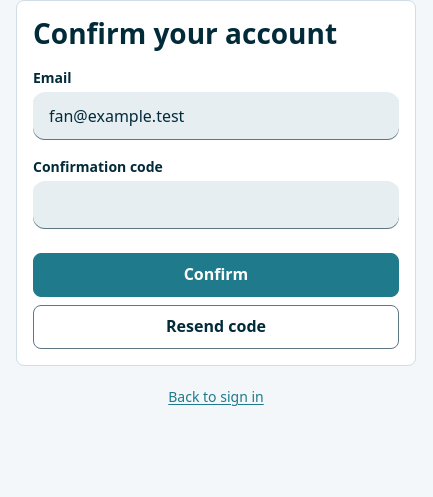
it: ConfirmPage in the narrow form card › renders a failed resend through InlineAlert (criterion 2)
Click the button "Resend code" at (216, 327), box left=33, top=305, right=399, bottom=349
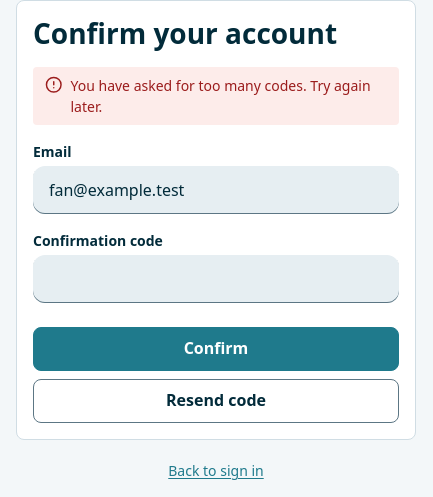
Expected: the message reads "You have asked for too many codes. Try again later.", left=70, top=76, right=371, bottom=116
